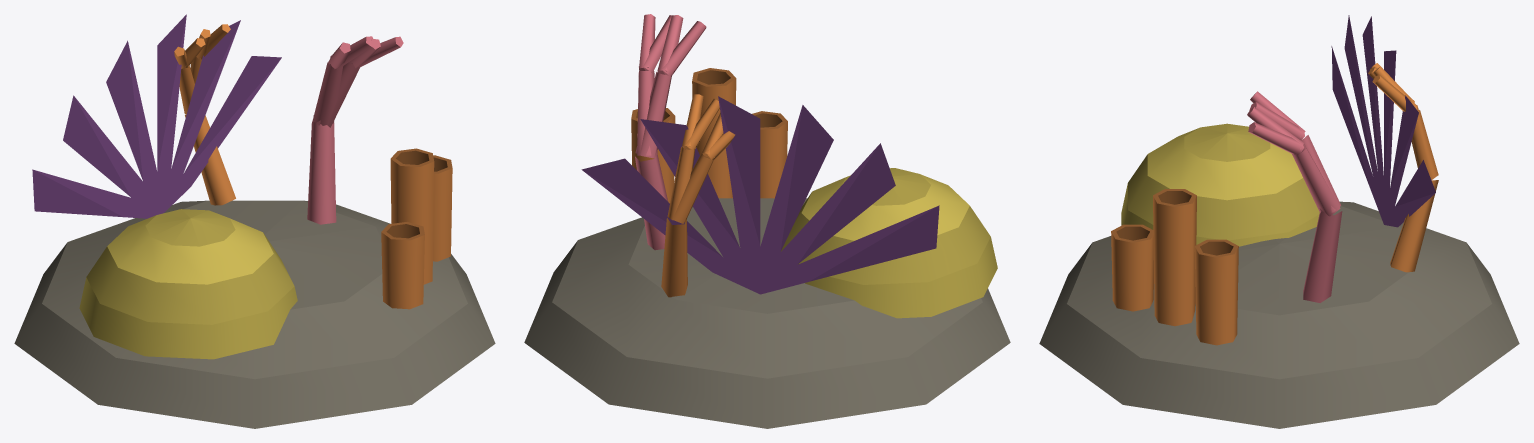
File: coral.glb
The picture shows the model from 3 angles, left to right: view 1: azimuth 30°, elevation 25°; view 2: azimuth 150°, elevation 25°; view 3: azimuth 270°, elevation 25°; orthographic projection.
Visible parts, largest first — view 1: Coral; view 2: Coral; view 3: Coral.
Boxes of the visible parts, x1=… form: Coral: x1=14, y1=14, x2=495, y2=428; Coral: x1=524, y1=14, x2=1010, y2=428; Coral: x1=1039, y1=15, x2=1519, y2=428.
Bounding box in the file's own units: 1.36 × 0.8643 × 1.38.
Materials: 1 (1 with a texture image).
